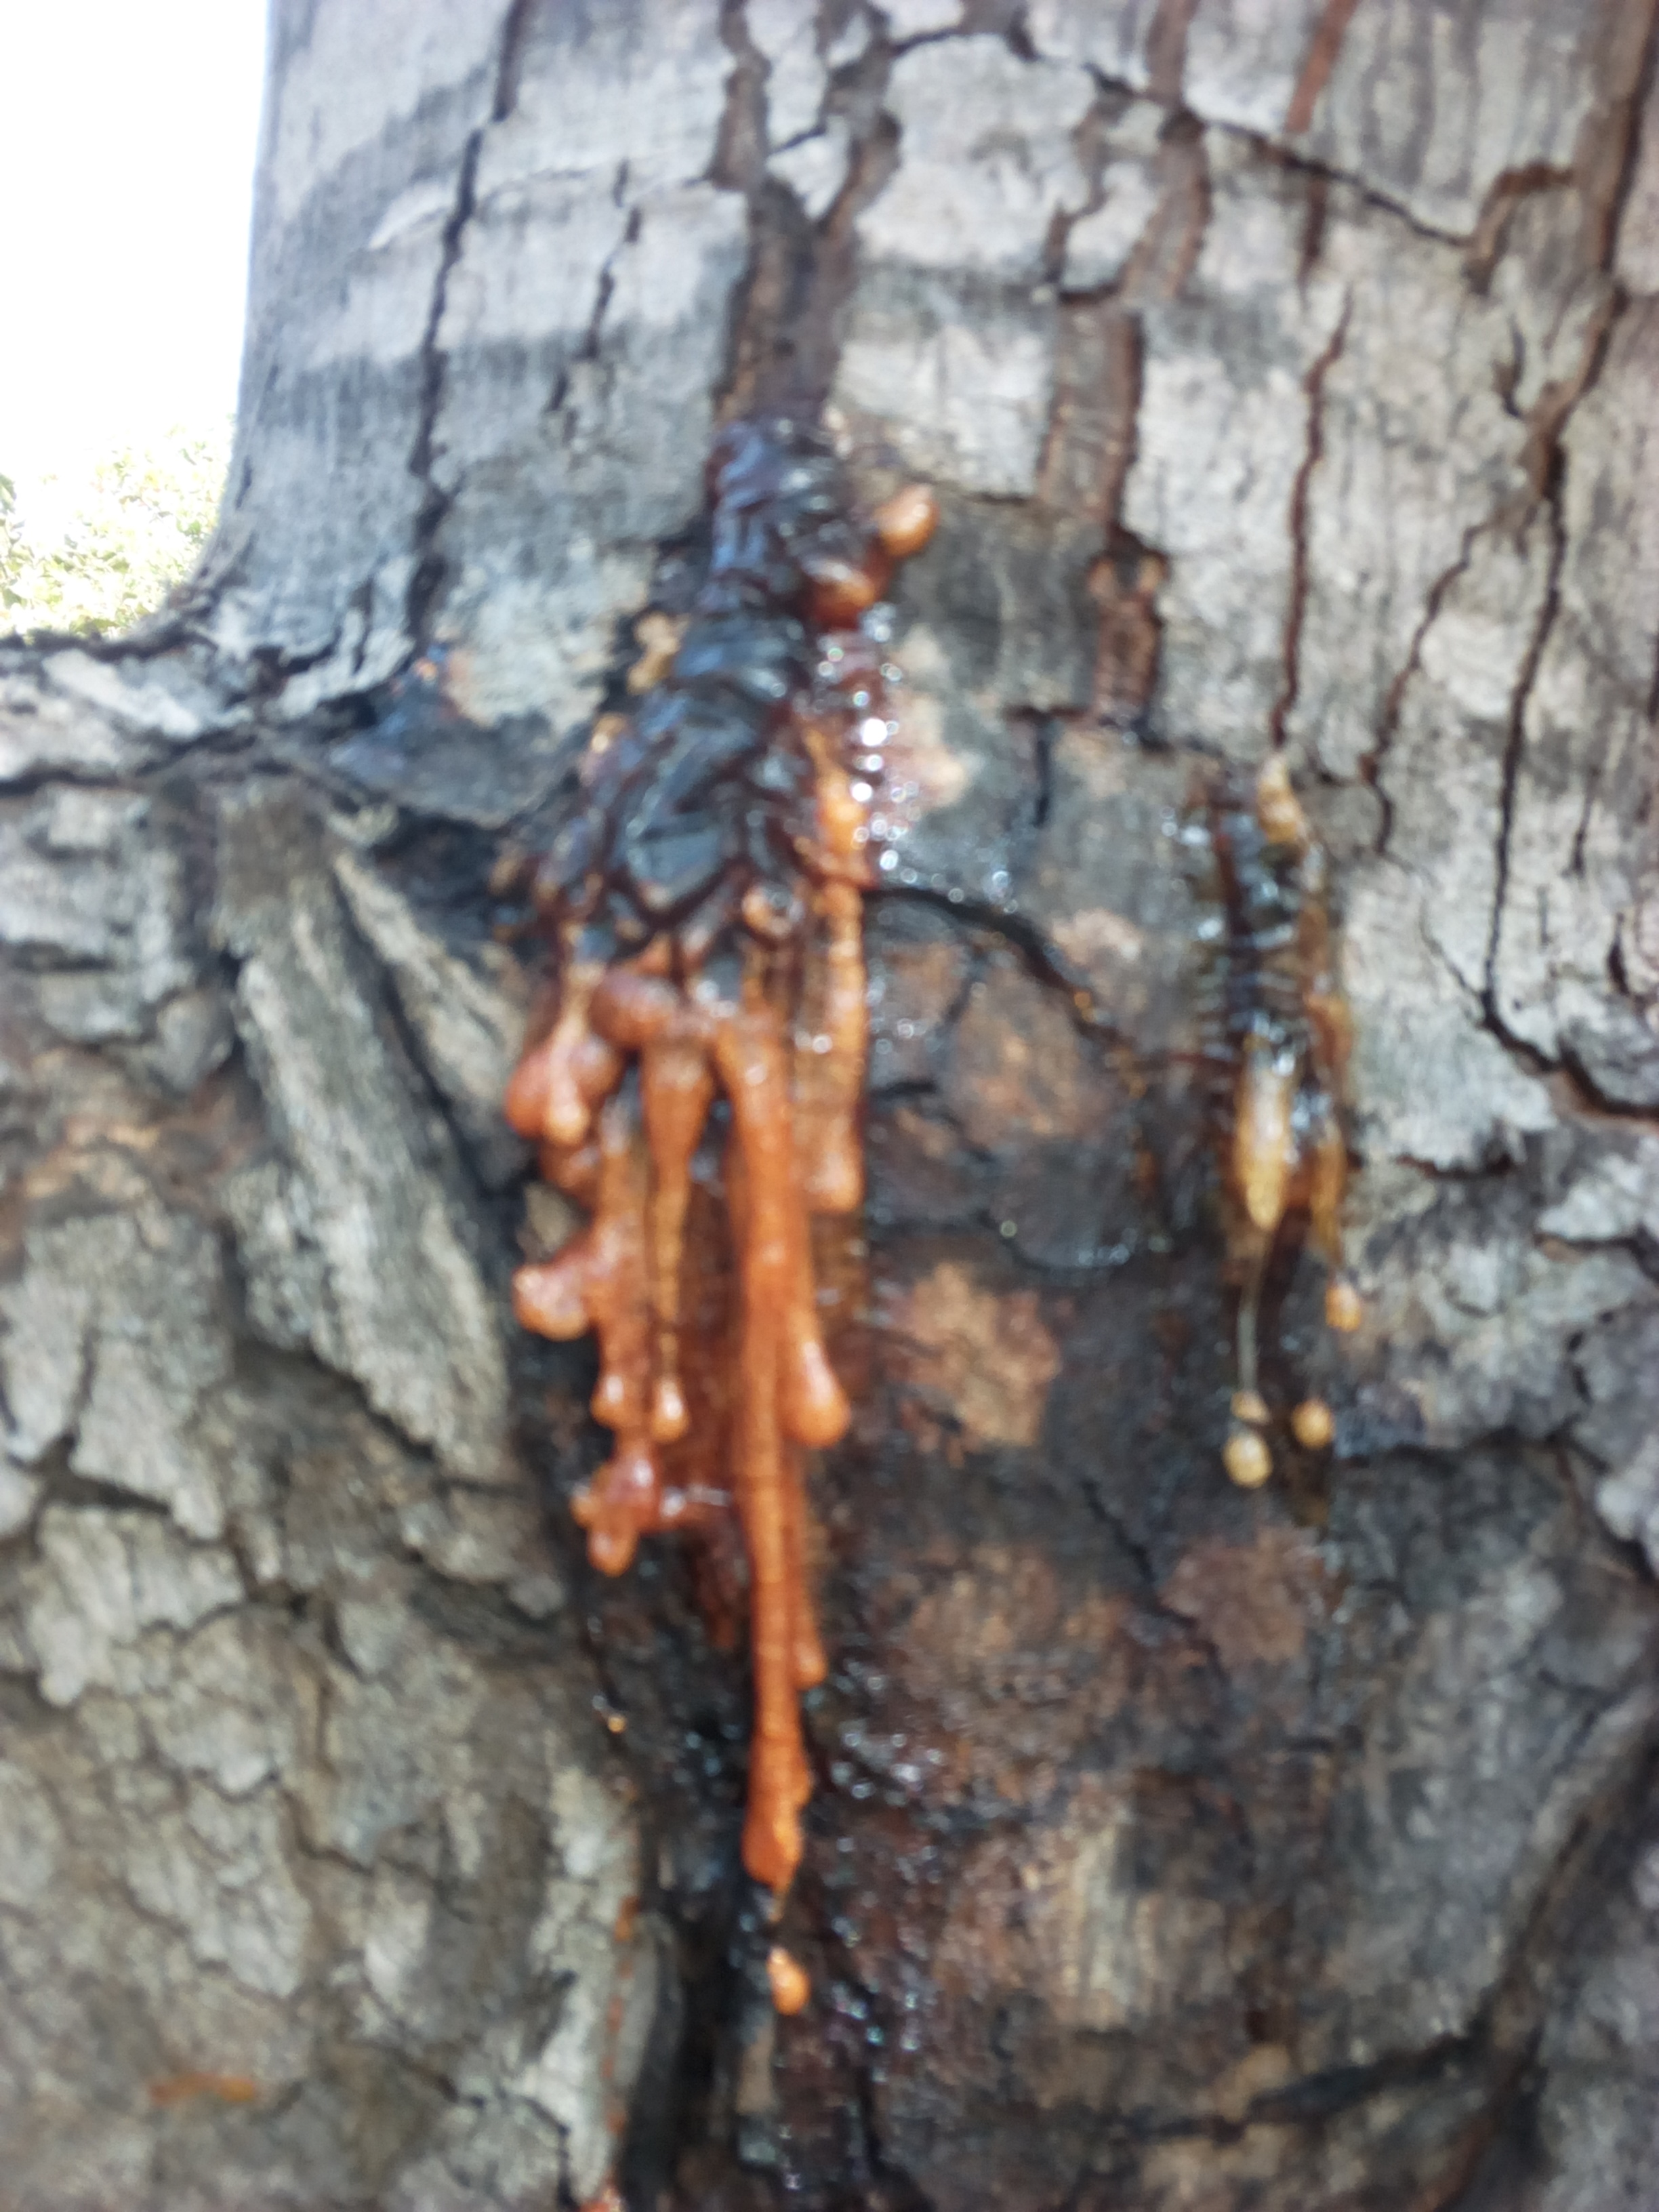Gommose: (488, 446, 955, 1998), (1148, 747, 1439, 1507)
